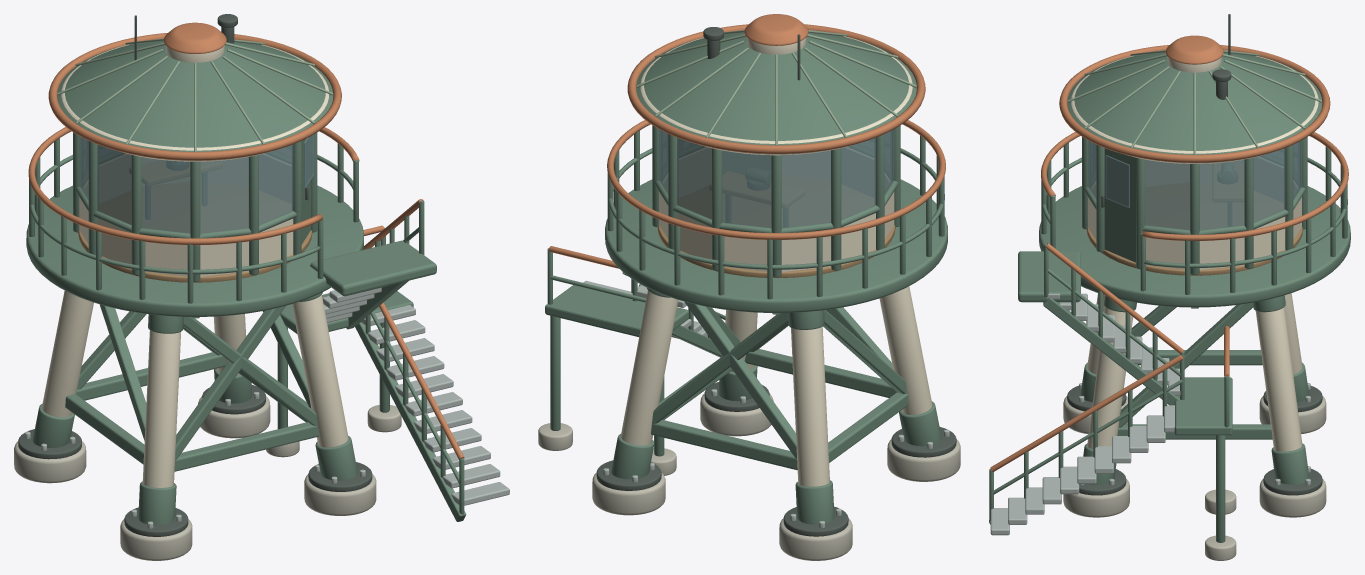
File: forest_watchtower.glb
3 renders of one model, left to right at view 1: azimuth 30°, elevation 25°; view 2: azimuth 150°, elevation 25°; view 3: azimuth 270°, elevation 25°, orthographic. The views are drawn at different scales.
Visible parts, largest first — view 1: Shallow_Conical_Roof, Circular_Balcony_Deck, Cabin_Internal_Floor, Leg_-1_-1_Broad_Splayed_Support, Terracotta_Eaves_Gutter, Leg_1_-1_Broad_Splayed_Support, Upper_Entry_Landing, Leg_-1_1_Broad_Splayed_Support, Observation_Window_7, Observation_Window_8, Balcony_Rail_5.07, Cross_Brace_-1_A (+59 smaller); view 2: Shallow_Conical_Roof, Circular_Balcony_Deck, Cabin_Internal_Floor, Leg_-1_1_Broad_Splayed_Support, Terracotta_Eaves_Gutter, Leg_1_1_Broad_Splayed_Support, Balcony_Rail_5.07, Leg_-1_-1_Broad_Splayed_Support, Observation_Window_4, Observation_Window_3, Mid_Stair_Landing, Lower_Tie_Beam_(1.4, 1.4, 1.2) (+47 smaller); view 3: Shallow_Conical_Roof, Circular_Balcony_Deck, Cabin_Internal_Floor, Terracotta_Eaves_Gutter, Leg_1_1_Broad_Splayed_Support, Cabin_Access_Door, Observation_Window_0, Mid_Stair_Landing, Observation_Window_11, Upper_Entry_Landing, Balcony_Rail_5.07, Leg_1_-1_Broad_Splayed_Support (+51 smaller).
Part boxes in pixels (left/top/right/bottom): Shallow_Conical_Roof: left=57, top=41, right=333, bottom=151; Circular_Balcony_Deck: left=26, top=185, right=363, bottom=316; Cabin_Internal_Floor: left=78, top=182, right=312, bottom=282; Leg_-1_-1_Broad_Splayed_Support: left=142, top=330, right=180, bottom=487; Terracotta_Eaves_Gutter: left=48, top=33, right=341, bottom=160; Leg_1_-1_Broad_Splayed_Support: left=292, top=294, right=348, bottom=447; Upper_Entry_Landing: left=310, top=240, right=436, bottom=295; Leg_-1_1_Broad_Splayed_Support: left=42, top=291, right=93, bottom=417; Observation_Window_7: left=141, top=157, right=190, bottom=233; Observation_Window_8: left=200, top=157, right=248, bottom=233; Balcony_Rail_5.07: left=28, top=127, right=359, bottom=245; Cross_Brace_-1_A: left=175, top=306, right=285, bottom=460; Shallow_Conical_Roof: left=636, top=32, right=916, bottom=145; Circular_Balcony_Deck: left=605, top=179, right=947, bottom=312; Cabin_Internal_Floor: left=657, top=176, right=895, bottom=277; Leg_-1_1_Broad_Splayed_Support: left=791, top=326, right=829, bottom=486; Terracotta_Eaves_Gutter: left=627, top=24, right=925, bottom=154; Leg_1_1_Broad_Splayed_Support: left=620, top=290, right=678, bottom=445; Balcony_Rail_5.07: left=607, top=120, right=945, bottom=239; Leg_-1_-1_Broad_Splayed_Support: left=879, top=286, right=932, bottom=414; Observation_Window_4: left=781, top=150, right=830, bottom=228; Observation_Window_3: left=722, top=150, right=771, bottom=228; Mid_Stair_Landing: left=545, top=285, right=688, bottom=337; Lower_Tie_Beam_(1.4, 1.4, 1.2): left=651, top=420, right=797, bottom=470; Shallow_Conical_Roof: left=1067, top=52, right=1322, bottom=154; Circular_Balcony_Deck: left=1039, top=186, right=1350, bottom=307; Cabin_Internal_Floor: left=1086, top=182, right=1302, bottom=275; Terracotta_Eaves_Gutter: left=1059, top=45, right=1330, bottom=162; Leg_1_1_Broad_Splayed_Support: left=1255, top=307, right=1302, bottom=451; Cabin_Access_Door: left=1104, top=148, right=1135, bottom=262; Observation_Window_0: left=1199, top=159, right=1244, bottom=230; Mid_Stair_Landing: left=1174, top=377, right=1232, bottom=435; Observation_Window_11: left=1145, top=159, right=1189, bottom=230; Upper_Entry_Landing: left=1018, top=251, right=1080, bottom=302; Balcony_Rail_5.07: left=1041, top=132, right=1348, bottom=240; Leg_1_-1_Broad_Splayed_Support: left=1087, top=307, right=1133, bottom=449.
Size of the model in its own units: 6.18 by 7.55 by 5.75.
